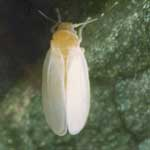whitefly: (37, 9, 97, 135)
